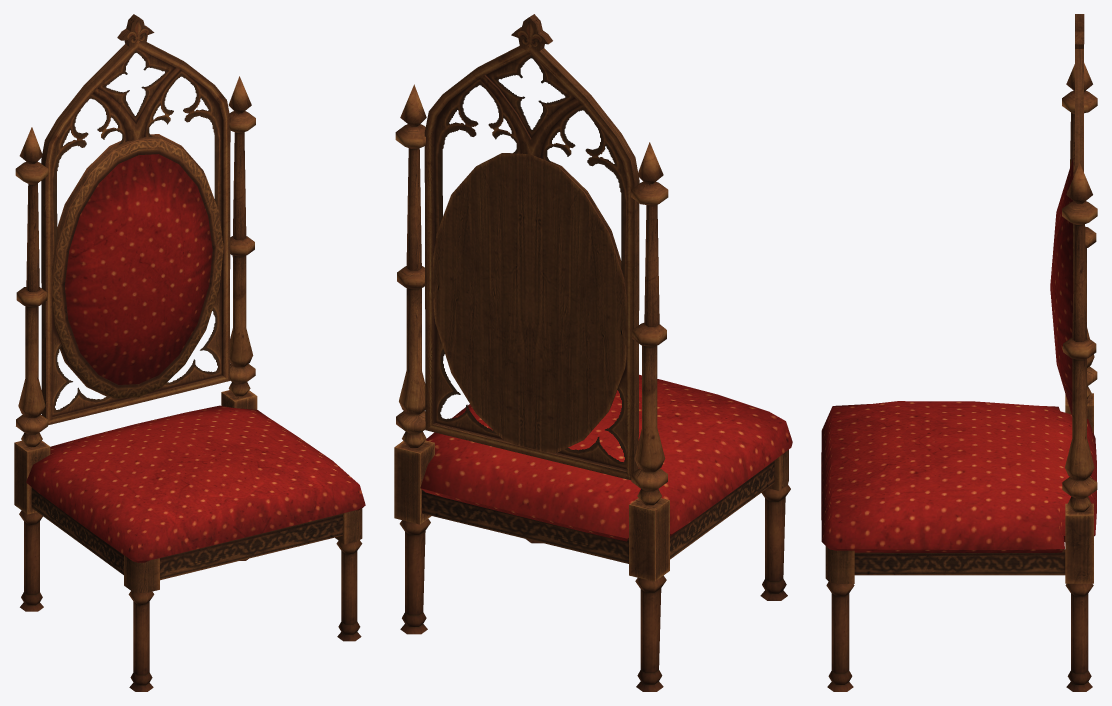
Rendered from HighChair1.dae.
3 views of the same model, side by side, from view 1: azimuth 30°, elevation 25°; view 2: azimuth 150°, elevation 25°; view 3: azimuth 270°, elevation 25° (orthographic). The views are drawn at different scales.
Visible parts, largest first — view 1: HighChair; view 2: HighChair; view 3: HighChair.
Boxes of the visible parts, bbox=[...] form: HighChair: bbox=[14, 14, 365, 691]; HighChair: bbox=[394, 14, 792, 691]; HighChair: bbox=[821, 14, 1097, 691].
Size of the model in its own units: 0.7571 by 1.73 by 0.7017.
Materials: 1 (1 with a texture image).
